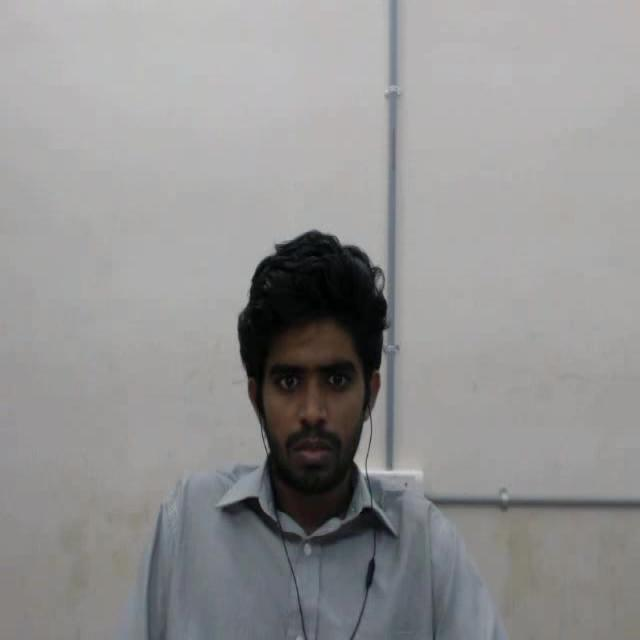Engaged: (226, 197, 417, 527)
